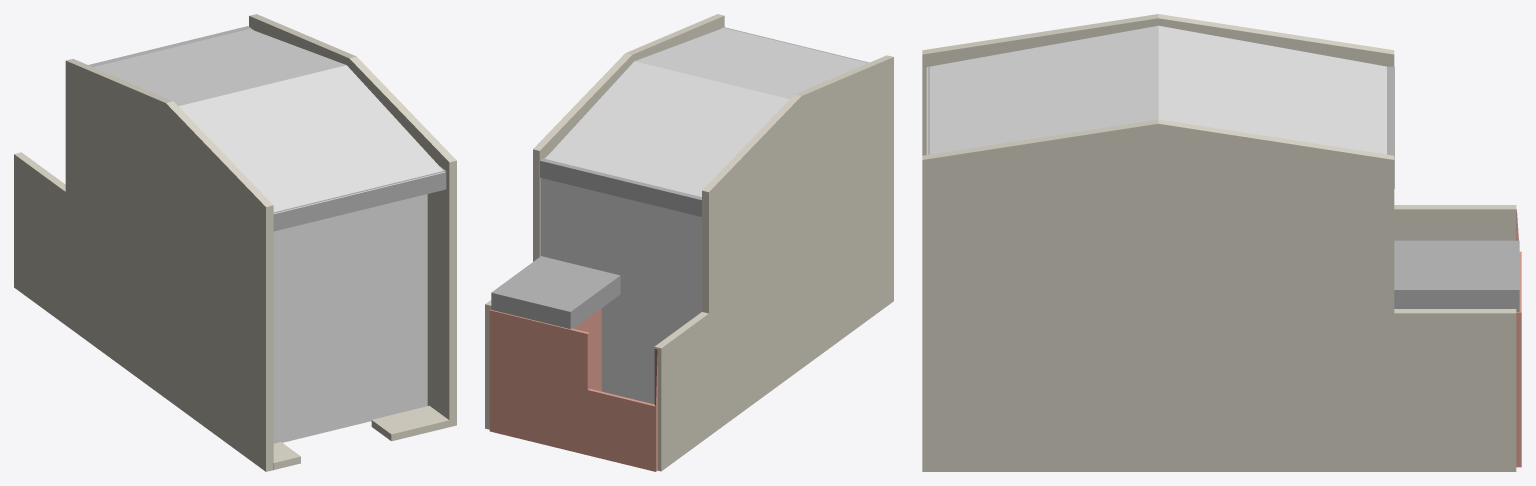
File: boxie.glb
3 renders of one model, left to right at view 1: azimuth 30°, elevation 25°; view 2: azimuth 150°, elevation 25°; view 3: azimuth 270°, elevation 25°, orthographic. The views are drawn at different scales.
Parts seen in each view (by area): view 1: Cube.003, house base, Plane.001, roof, Cube.001, Cube.002; view 2: Cube.003, Plane.001, house base, Wall.001, Roof.001, roof; view 3: Cube.003, Plane.001, Roof.001, Wall.001, roof.
Boxes of the visible parts, box(x1,y1,x2,y2) form: Cube.003: box(14, 14, 456, 471); house base: box(273, 194, 427, 443); Plane.001: box(93, 29, 444, 213); roof: box(88, 26, 446, 231); Cube.001: box(371, 405, 449, 441); Cube.002: box(273, 442, 300, 469); Cube.003: box(485, 14, 893, 471); Plane.001: box(545, 28, 867, 196); house base: box(540, 178, 701, 404); Wall.001: box(489, 308, 657, 471); Roof.001: box(491, 256, 620, 328); roof: box(540, 27, 869, 216); Cube.003: box(922, 14, 1516, 471); Plane.001: box(926, 25, 1386, 154); Roof.001: box(1394, 240, 1519, 311); Wall.001: box(1516, 209, 1521, 467); roof: box(928, 66, 1394, 188).
Size of the model in its own units: 3.86 by 5.71 by 8.91.
